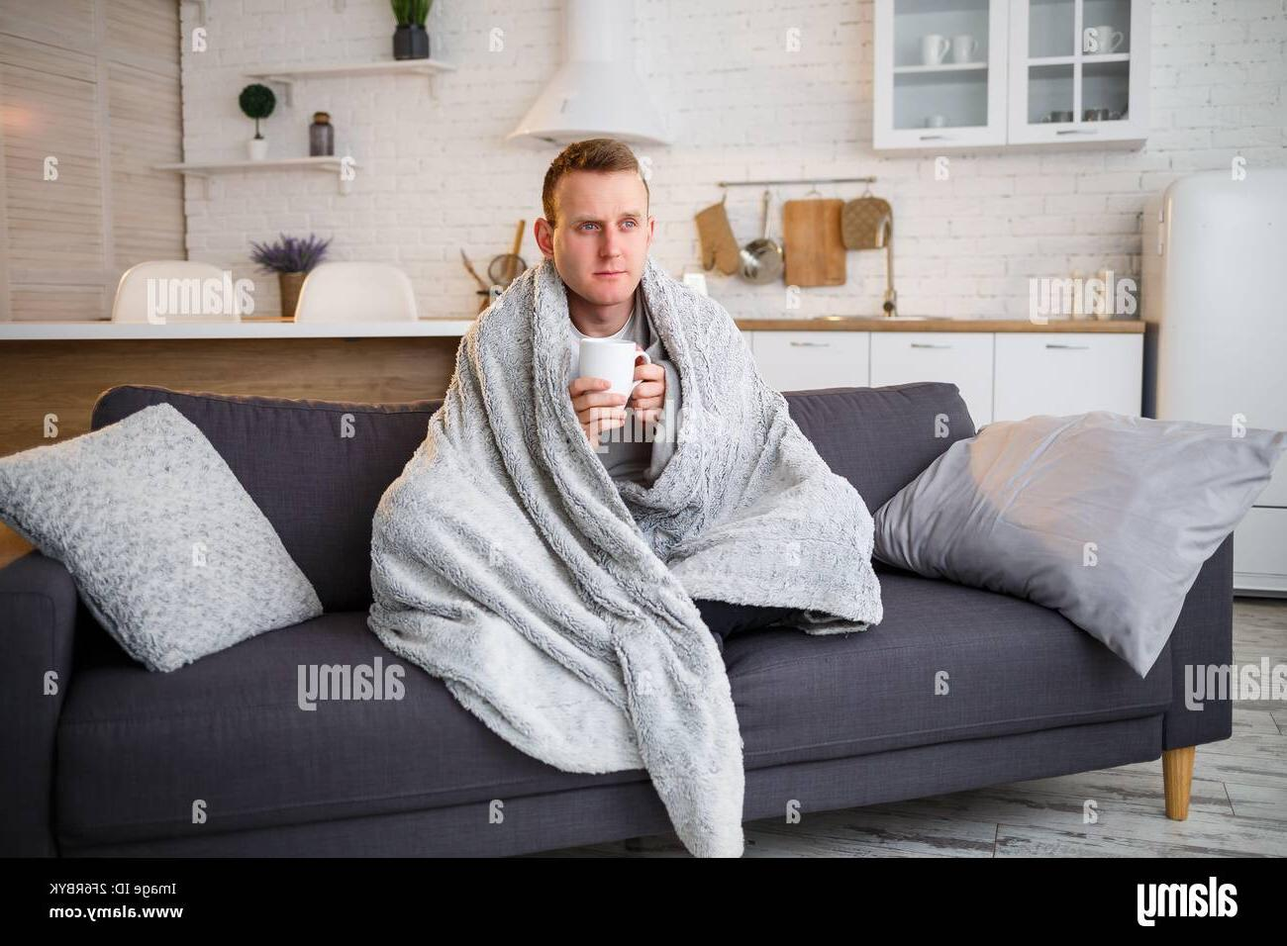blanket: (370, 250, 888, 859)
